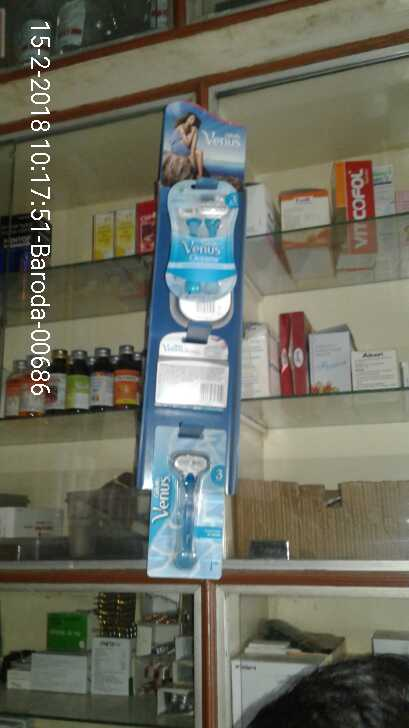venus: (142, 420, 228, 587), (156, 172, 247, 309)
